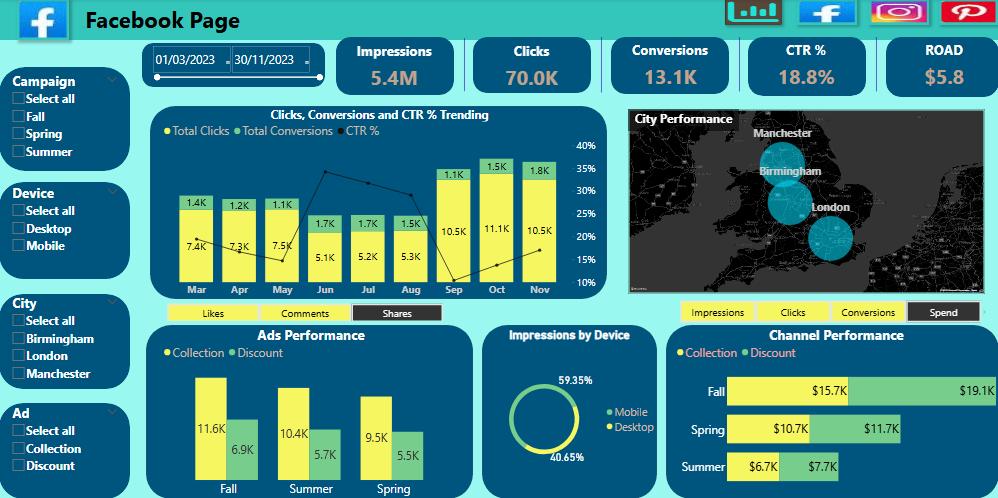

What the dashboard file says about the page in this screenshot:
{"tool":"powerbi","page":{"name":"Facebook","canvas":[4000,2000],"ordinal":1},"visuals":[{"type":"shape","box":[0,0,4000,164],"z":0},{"type":"textbox","box":[288,16,716,136],"z":1000},{"type":"shape","box":[0,272,524,416],"z":2000},{"type":"slicer","fields":{"Values":["Data.Campaign"]},"box":[40,284,444,388],"z":3000},{"type":"shape","box":[0,732,524,388],"z":4000},{"type":"shape","box":[0,1180,524,380],"z":5000},{"type":"shape","box":[0,1616,524,384],"z":6000},{"type":"slicer","fields":{"Values":["Data.City"]},"box":[40,1172,444,388],"z":7000},{"type":"slicer","fields":{"Values":["Data.Ad"]},"box":[40,1612,444,388],"z":8000},{"type":"shape","box":[572,176,732,176],"z":9000},{"type":"slicer","fields":{"Values":["Calendar.Date"]},"box":[604,180,700,172],"z":10000},{"type":"shape","box":[604,428,1828,772],"z":11000},{"type":"lineStackedColumnComboChart","title":"Clicks, Conversions and CTR % Trending","fields":{"Category":["Calendar.Month_Name","Calendar.Day_Name"],"Y":["_measures.Total Clicks","_measures.Total Conversions"],"Y2":["_measures.CTR %"]},"box":[648,428,1748,772],"z":12000},{"type":"map","title":"City Performance","fields":{"Category":["Data.City"],"Size":["_measures.CPC"]},"box":[2516,440,1428,740],"z":13000},{"type":"shape","box":[2668,1304,1332,696],"z":14000},{"type":"shape","box":[588,1304,1308,696],"z":15000},{"type":"clusteredColumnChart","title":"Ads Performance","fields":{"Y":["_measures.Total Shares"],"Category":["Data.Campaign"],"Series":["Data.Ad"]},"box":[648,1304,1200,696],"z":16000},{"type":"shape","box":[1932,1304,700,696],"z":17000},{"type":"donutChart","fields":{"Category":["Data.Device"],"Y":["_measures.Total Impressions"]},"box":[1930.9,1315.5,700.1,673.4],"z":18000},{"type":"slicer","fields":{"Values":["Data.Device"]},"box":[40.1,731.3,445.9,388],"z":19000},{"type":"image","box":[72,0,208,164],"z":20000},{"type":"image","box":[2903,0,227.4,102.6],"z":21000},{"type":"image","box":[3192.9,0,240.8,102.6],"z":22000},{"type":"image","box":[3478.3,0,240.8,102.6],"z":23000},{"type":"image","box":[3759.2,0,236.3,102.6],"z":24000},{"type":"shape","box":[1348,152,472,232],"z":25000},{"type":"shape","box":[2996,152,472,236],"z":26000},{"type":"shape","box":[3548,152,452,240],"z":27000},{"type":"card","title":"Impressions","fields":{"Values":["_measures.Total Impressions"]},"box":[1360.1,169.5,441.5,205.1],"z":28000},{"type":"shape","box":[1896,152,472,224],"z":29000},{"type":"shape","box":[2448,152,472,228],"z":30000},{"type":"card","title":"Clicks","fields":{"Values":["_measures.Total Clicks"]},"box":[1913,169.5,437,205.1],"z":31000},{"type":"card","title":"Conversions","fields":{"Values":["_measures.Total Conversions"]},"box":[2470.5,165,423.6,205.1],"z":32000},{"type":"card","title":"CTR %","fields":{"Values":["_measures.CTR %"]},"box":[3032.3,165,392.4,209.6],"z":33000},{"type":"card","title":"ROAD","fields":{"Values":["_measures.ROAD"]},"box":[3621,165,321.1,205.1],"z":34000},{"type":"shape","box":[1823.9,156.1,75.8,214],"z":35000},{"type":"shape","box":[2372.4,151.6,75.8,223],"z":36000},{"type":"shape","box":[2925.3,151.6,75.8,218.5],"z":37000},{"type":"shape","box":[3473.8,151.6,75.8,218.5],"z":38000},{"type":"slicer","fields":{"Values":["Parameter.Parameter"]},"box":[2680,1204,1320,100],"z":39000},{"type":"barChart","title":"Channel Performance","fields":{"Y":["_measures.Total Impressions"],"Category":["Data.Campaign"],"Series":["Data.Ad"]},"box":[2700,1304,1300,696],"z":40000},{"type":"slicer","fields":{"Values":["Parameter.Parameter"]},"box":[648,1212,1152,76],"z":41000},{"type":"textbox","box":[2516,440,444,88],"z":42000}]}

Visuals, with their boxes in screenshot pixels (x1, y1, x2, y2), scaled from the page's 4000x2000 canvas onto the 998x498 screenshot:
shape: Rect(0, 0, 997, 41)
textbox: Rect(72, 4, 250, 38)
shape: Rect(0, 68, 131, 171)
slicer - Data.Campaign: Rect(10, 71, 121, 167)
shape: Rect(0, 182, 131, 279)
shape: Rect(0, 294, 131, 388)
shape: Rect(0, 402, 131, 497)
slicer - Data.City: Rect(10, 292, 121, 388)
slicer - Data.Ad: Rect(10, 401, 121, 497)
shape: Rect(143, 44, 325, 88)
slicer - Calendar.Date: Rect(151, 45, 325, 88)
shape: Rect(151, 107, 607, 299)
"Clicks, Conversions and CTR % Trending" lineStackedColumnComboChart: Rect(162, 107, 598, 299)
"City Performance" map: Rect(628, 110, 984, 294)
shape: Rect(666, 325, 997, 497)
shape: Rect(147, 325, 473, 497)
"Ads Performance" clusteredColumnChart: Rect(162, 325, 461, 497)
shape: Rect(482, 325, 657, 497)
donutChart - Data.Device x _measures.Total Impressions: Rect(482, 328, 656, 495)
slicer - Data.Device: Rect(10, 182, 121, 279)
image: Rect(18, 0, 70, 41)
image: Rect(724, 0, 781, 26)
image: Rect(797, 0, 857, 26)
image: Rect(868, 0, 928, 26)
image: Rect(938, 0, 997, 26)
shape: Rect(336, 38, 454, 96)
shape: Rect(748, 38, 865, 97)
shape: Rect(885, 38, 997, 98)
"Impressions" card: Rect(339, 42, 449, 93)
shape: Rect(473, 38, 591, 94)
shape: Rect(611, 38, 729, 95)
"Clicks" card: Rect(477, 42, 586, 93)
"Conversions" card: Rect(616, 41, 722, 92)
"CTR %" card: Rect(757, 41, 854, 93)
"ROAD" card: Rect(903, 41, 984, 92)
shape: Rect(455, 39, 474, 92)
shape: Rect(592, 38, 611, 93)
shape: Rect(730, 38, 749, 92)
shape: Rect(867, 38, 886, 92)
slicer - Parameter.Parameter: Rect(669, 300, 997, 325)
"Channel Performance" barChart: Rect(674, 325, 997, 497)
slicer - Parameter.Parameter: Rect(162, 302, 449, 321)
textbox: Rect(628, 110, 739, 131)
